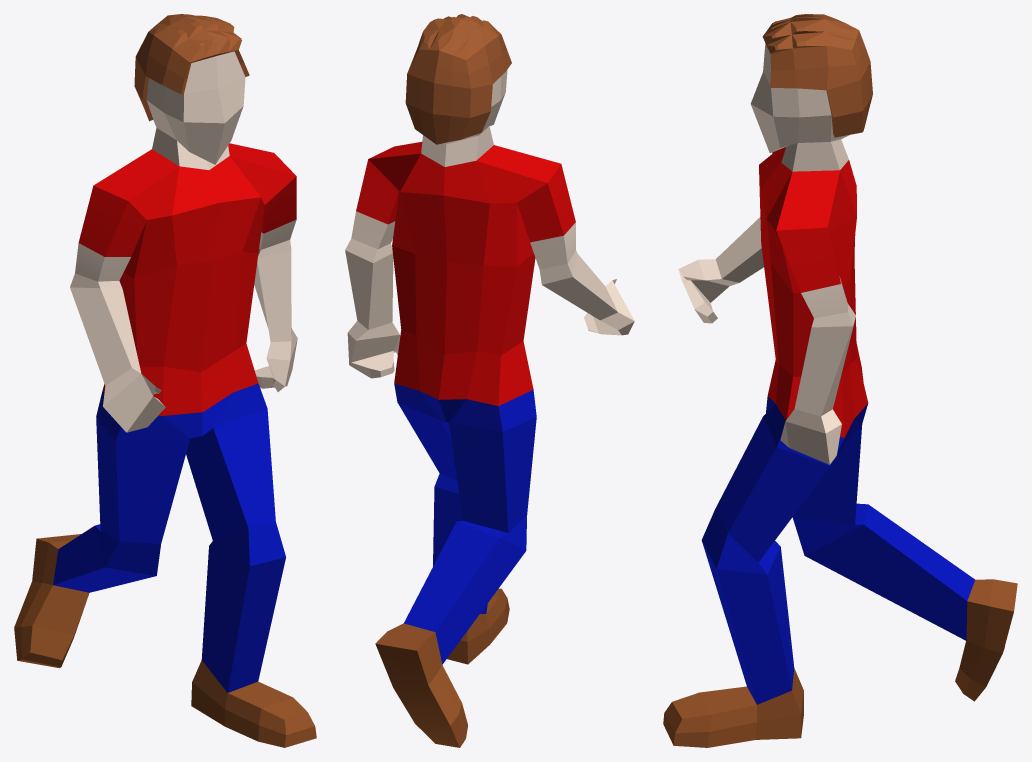
The model's file is Human_walking_14.fbx.
3 views of the same model, side by side, from view 1: azimuth 30°, elevation 25°; view 2: azimuth 150°, elevation 25°; view 3: azimuth 270°, elevation 25° (orthographic). The views are drawn at different scales.
Parts seen in each view (by area): view 1: Person; view 2: Person; view 3: Person.
Boxes of the visible parts, x1,y1,x2,y2 form: Person: (14,14,316,747); Person: (345,14,634,747); Person: (663,14,1017,747).
Bounding box in the file's own units: 0.1185 × 0.315 × 0.1423.
